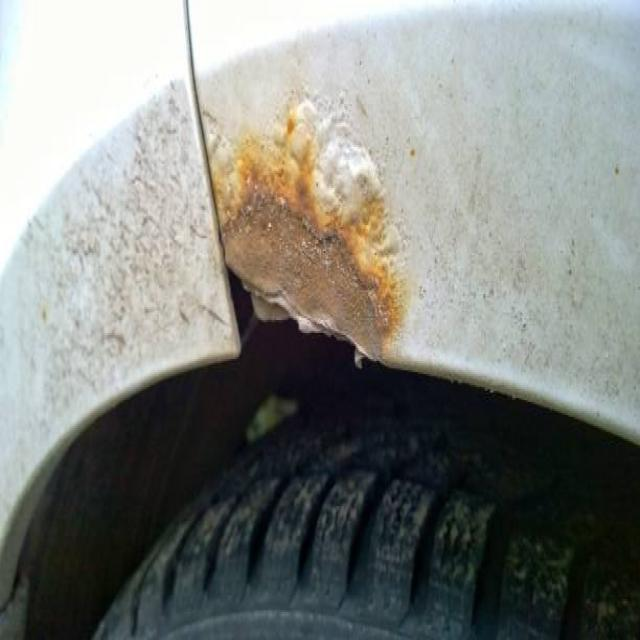Bad Weld: (218, 115, 382, 368)
